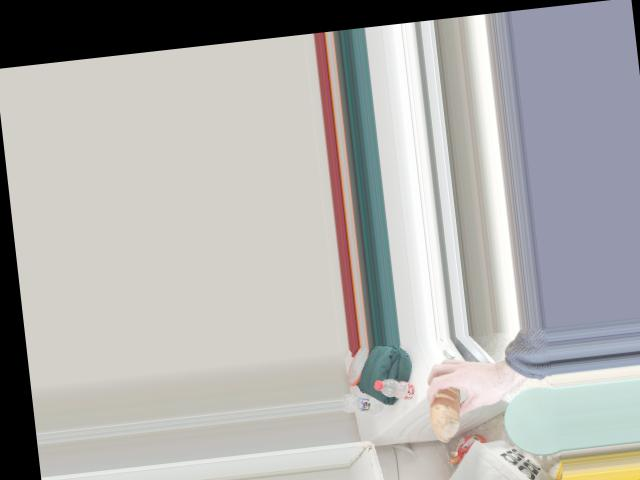sweet_potato: (431, 371, 478, 426)
